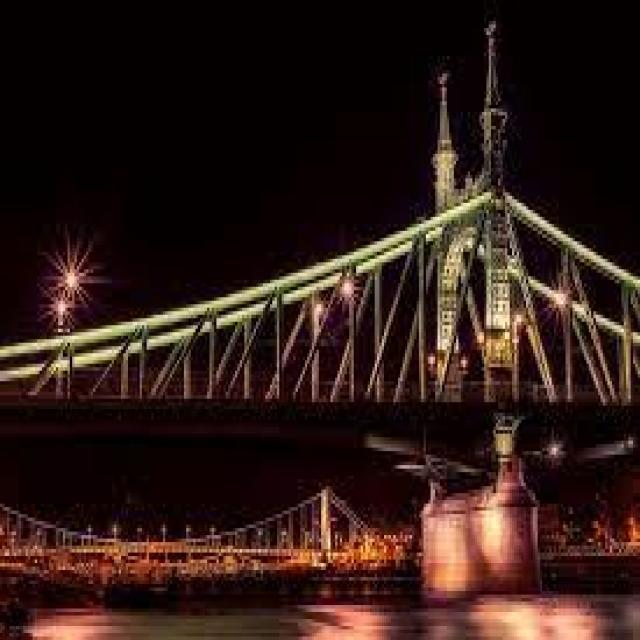Bridges: (7, 25, 638, 555)
